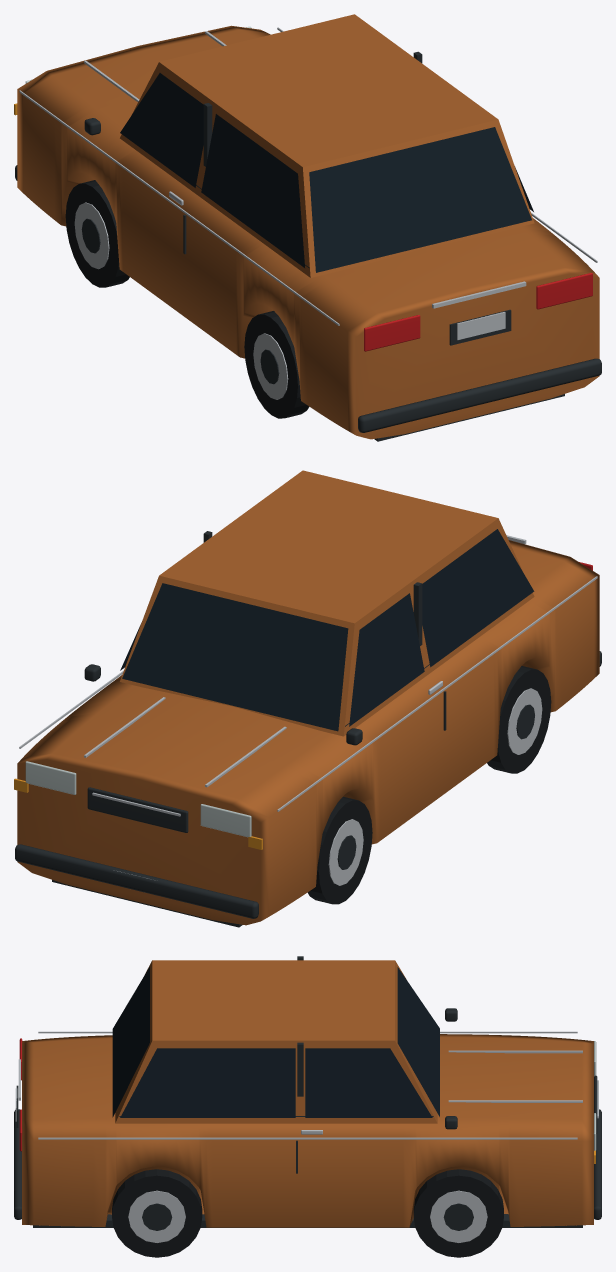
Rendered from traffic_sedan_v1.glb.
3 renders of one model, top to bottom at view 1: azimuth 30°, elevation 25°; view 2: azimuth 150°, elevation 25°; view 3: azimuth 270°, elevation 25°, orthographic. The views are drawn at different scales.
Parts seen in each view (by area): view 1: sculpted body and wheel arches, solid roof and pillars, rear glass, side glass rear, side glass front, bumper, tire.002, tire, taillamp.001, taillamp, wheel-face, wheel-face.004 (+3 smaller); view 2: sculpted body and wheel arches, solid roof and pillars, windshield, side glass rear, side glass front, bumper.001, tire, tire.002, front grille, wheel-face.004, wheel-face, headlamp (+2 smaller); view 3: sculpted body and wheel arches, solid roof and pillars, side glass rear.001, side glass front.001, tire.003, tire.001, windshield, rear glass, wheel-face.007, wheel-face.003, shoulder crease.001, lower undertray (+6 smaller).
Boxes of the visible parts, box(x1,y1,x2,y2) form: sculpted body and wheel arches: box(17, 25, 599, 439); solid roof and pillars: box(120, 14, 534, 277); rear glass: box(309, 127, 531, 272); side glass rear: box(201, 114, 304, 267); side glass front: box(120, 73, 203, 187); bumper: box(358, 358, 601, 432); tire.002: box(244, 311, 309, 418); tire: box(65, 180, 129, 287); taillamp.001: box(536, 272, 592, 309); taillamp: box(364, 315, 420, 351); wheel-face: box(74, 202, 109, 269); wheel-face.004: box(253, 333, 288, 399); sculpted body and wheel arches: box(17, 540, 599, 925); solid roof and pillars: box(120, 470, 534, 736); windshield: box(122, 583, 348, 731); side glass rear: box(422, 529, 534, 667); side glass front: box(349, 593, 424, 726); bumper.001: box(15, 844, 258, 918); tire: box(307, 796, 372, 904); tire.002: box(487, 666, 551, 773); front grille: box(87, 787, 188, 832); wheel-face.004: box(507, 688, 542, 754); wheel-face: box(328, 819, 363, 885); headlamp: box(200, 804, 251, 837); sculpted body and wheel arches: box(22, 1034, 593, 1227); solid roof and pillars: box(115, 960, 437, 1123); side glass rear.001: box(120, 1048, 295, 1117); side glass front.001: box(305, 1048, 432, 1117); tire.003: box(112, 1169, 202, 1257); tire.001: box(413, 1169, 503, 1257); windshield: box(397, 967, 439, 1116); rear glass: box(112, 967, 149, 1117); wheel-face.007: box(128, 1190, 185, 1242); wheel-face.003: box(430, 1190, 487, 1242); shoulder crease.001: box(38, 1137, 577, 1139); lower undertray: box(33, 1214, 582, 1227).
Size of the model in its own units: 1.94 by 1.65 by 4.29.
